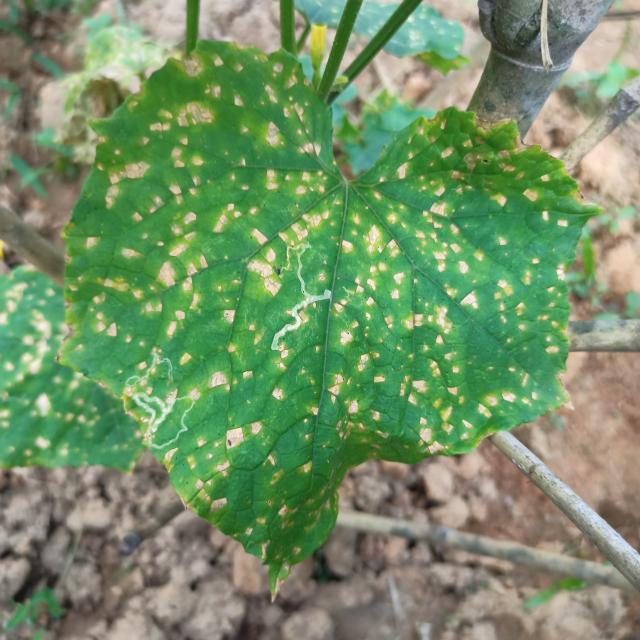disease_cucumber: (91, 56, 539, 531)
